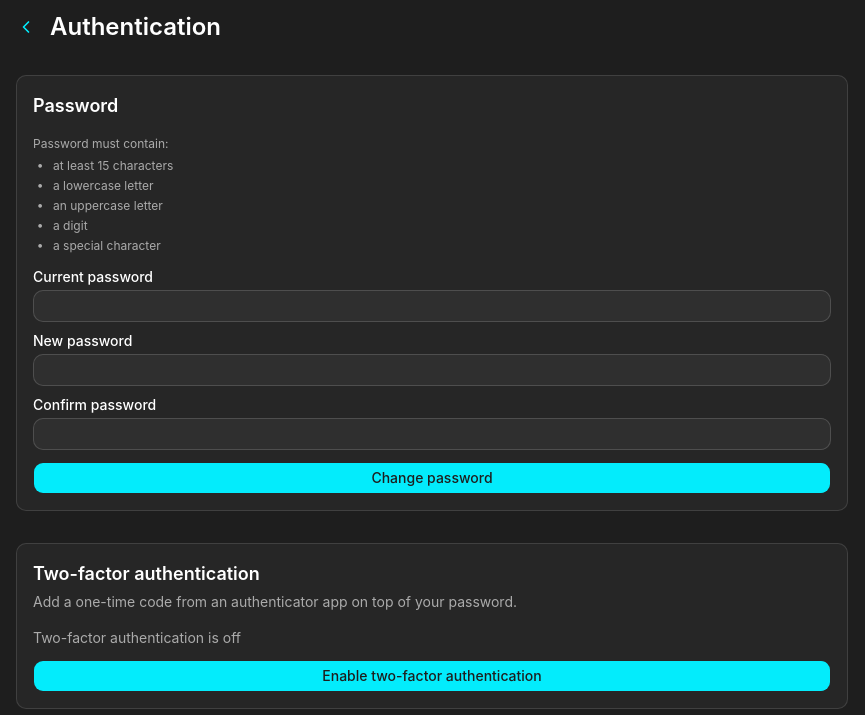
Scenario: SettingsAuthenticationView — password › marks the current password field on a 401
Type "old-password-1!" into the password field labelled "Current password" at (432, 306), box [33,290,831,322]
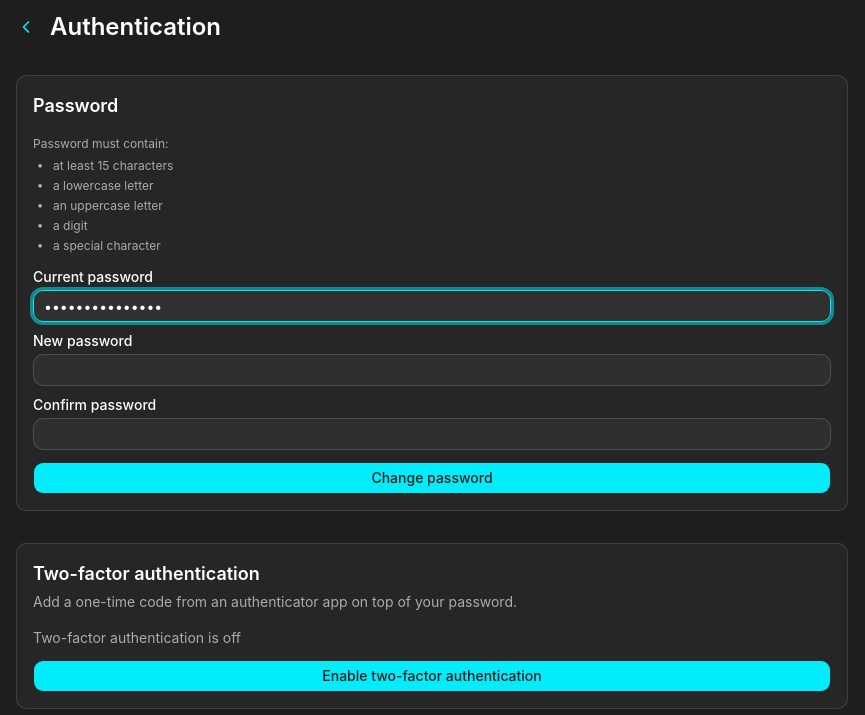
Type "NewBrandPa55word!" into the password field labelled "New password" at (432, 370), box [33,354,831,386]
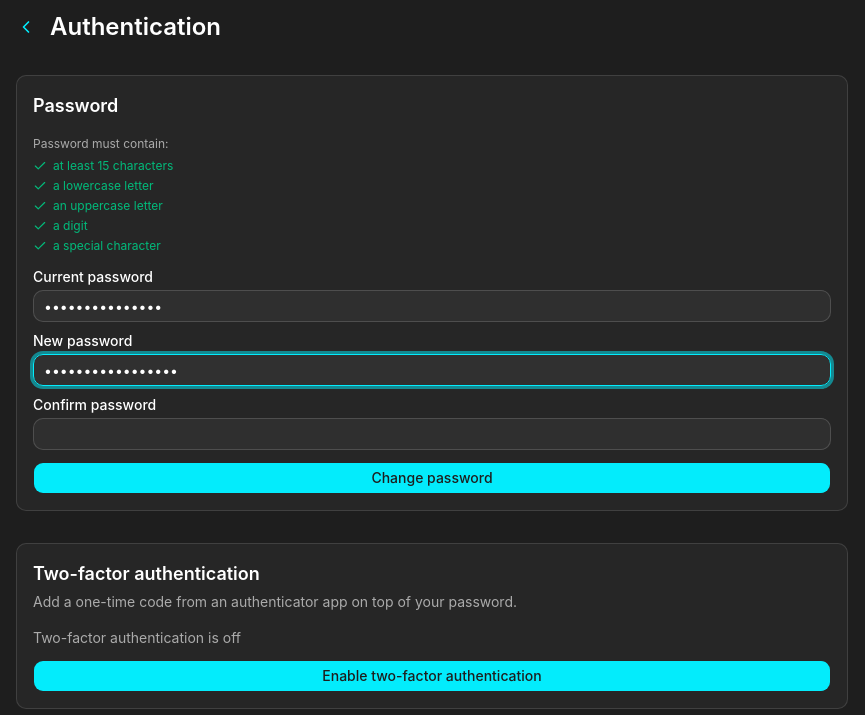
Type "NewBrandPa55word!" into the password field labelled "Confirm password" at (432, 434), box [33,418,831,450]
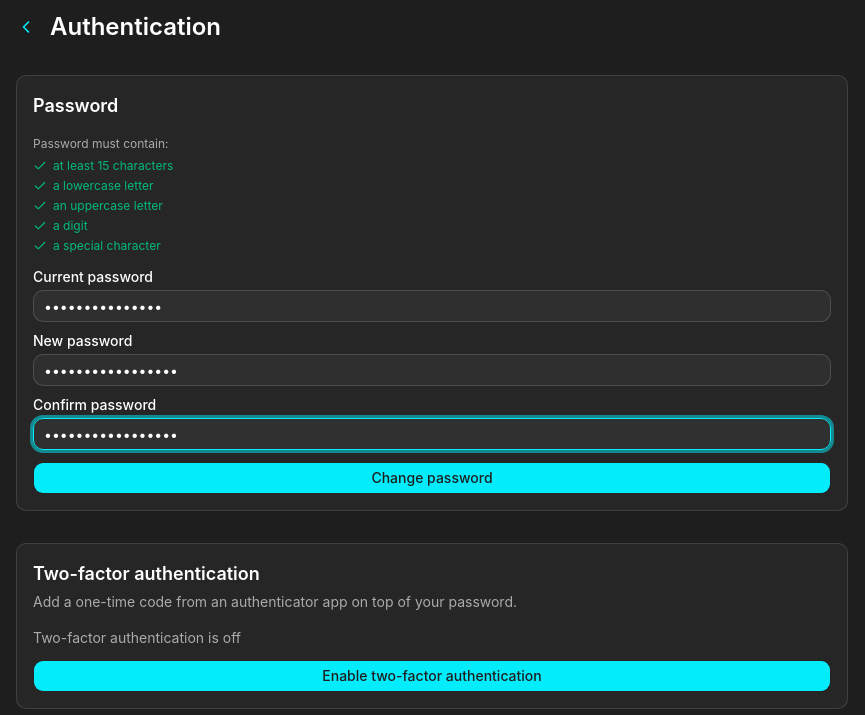
Click the button "Change password" at (432, 478), box [33,462,831,494]
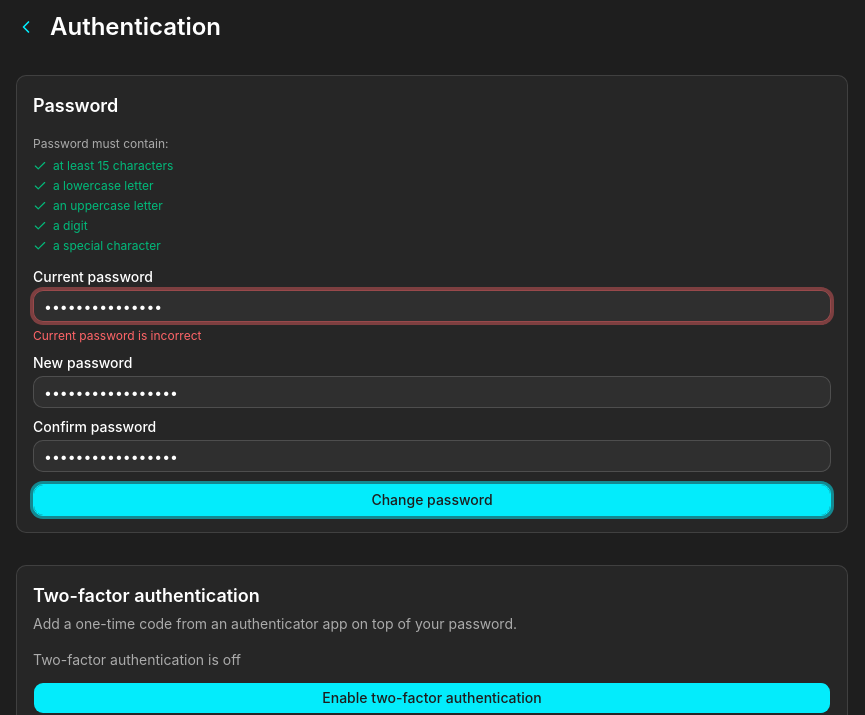
Check: the text "Current password is incorrect" is shown, box [33,328,202,343]
